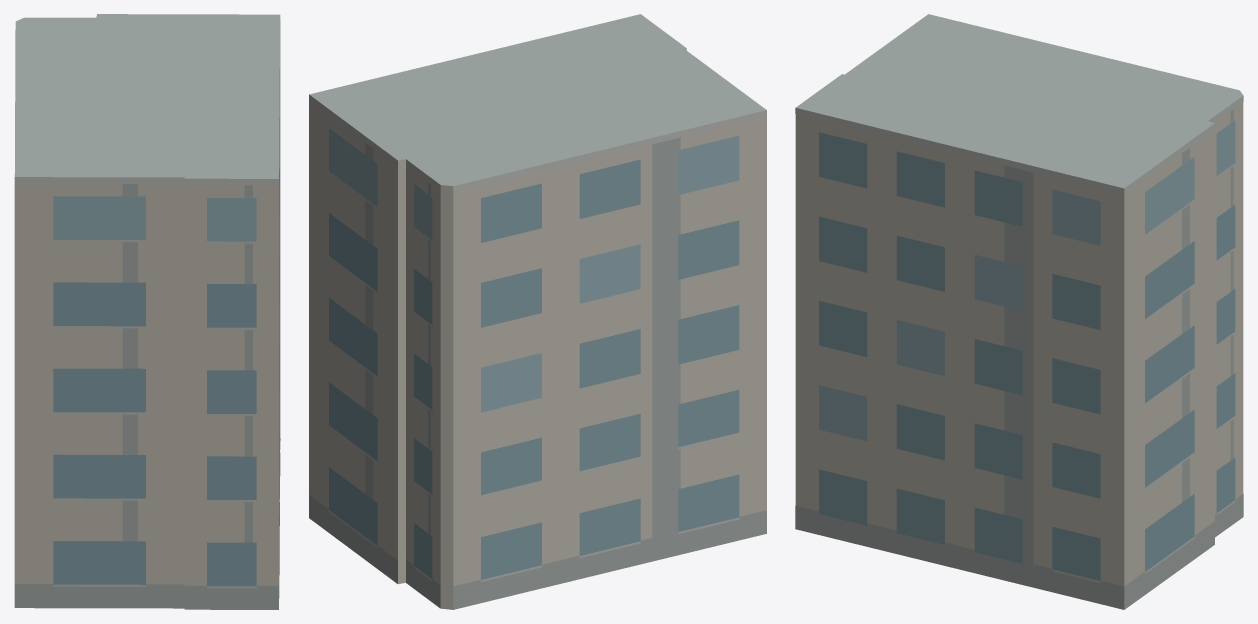
The model's file is survey-upis-32835376.glb.
3 views of the same model, side by side, from view 1: azimuth 30°, elevation 25°; view 2: azimuth 150°, elevation 25°; view 3: azimuth 270°, elevation 25° (orthographic). The views are drawn at different scales.
Parts seen in each view (by area): view 1: survey-upis-32835376.tmp; view 2: survey-upis-32835376.tmp; view 3: survey-upis-32835376.tmp.
Part boxes in pixels (x1,y1,x2,y2): survey-upis-32835376.tmp: [14, 14, 280, 609]; survey-upis-32835376.tmp: [309, 14, 766, 609]; survey-upis-32835376.tmp: [795, 14, 1243, 609].
Size of the model in its own units: 14.3 by 16.1 by 15.52.
